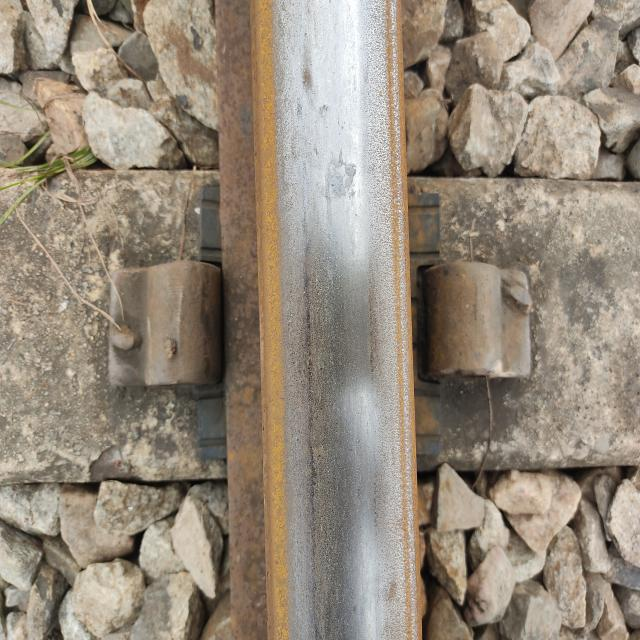Faults: (422, 252, 541, 401), (107, 250, 221, 390)
